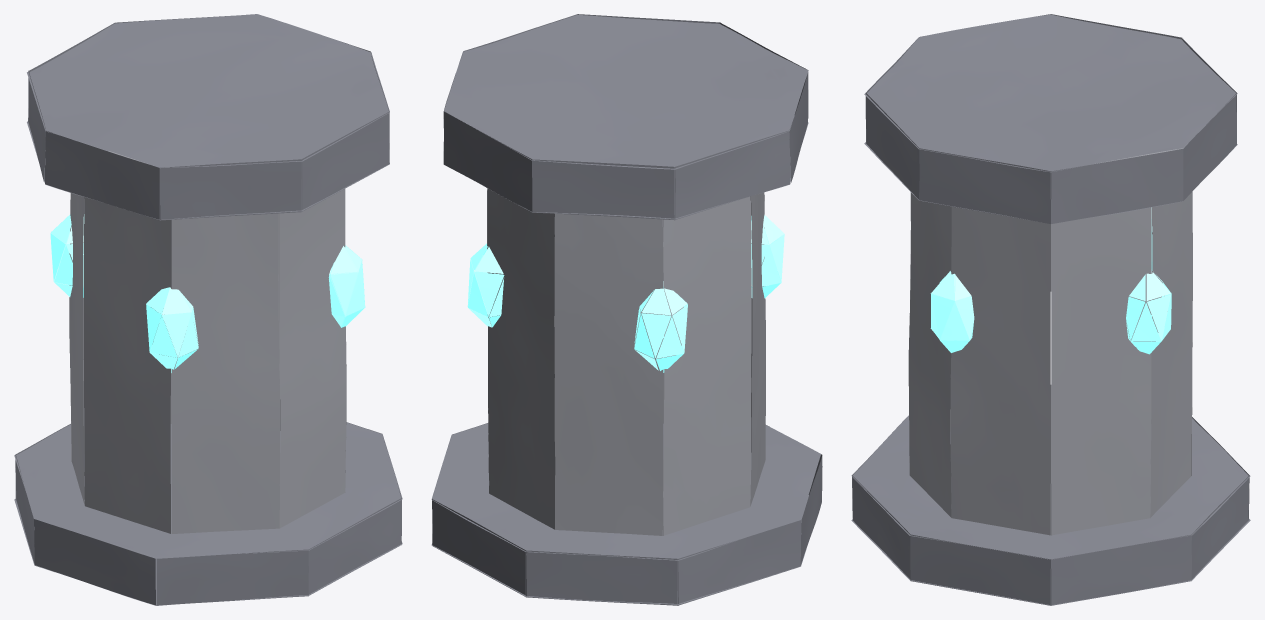
Rendered from pedestal.glb.
3 renders of one model, left to right at view 1: azimuth 30°, elevation 25°; view 2: azimuth 150°, elevation 25°; view 3: azimuth 270°, elevation 25°, orthographic.
Visible parts, largest first — view 1: PedestalFoot; view 2: PedestalFoot; view 3: PedestalFoot.
Boxes of the visible parts, x1=… form: PedestalFoot: x1=14, y1=14, x2=402, y2=605; PedestalFoot: x1=431, y1=14, x2=822, y2=605; PedestalFoot: x1=851, y1=14, x2=1250, y2=605.
Size of the model in its own units: 1.24 by 1.48 by 1.24.
